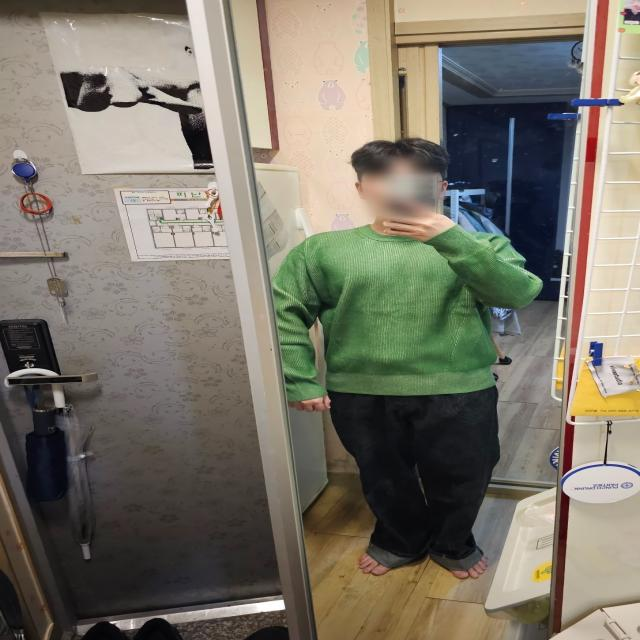denimpants: (327, 383, 499, 569)
sweater: (276, 218, 546, 402)
